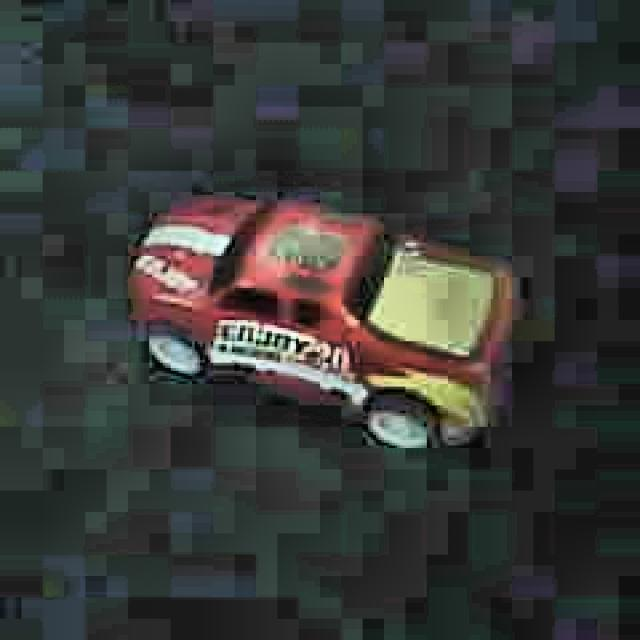car: (120, 182, 523, 467)
